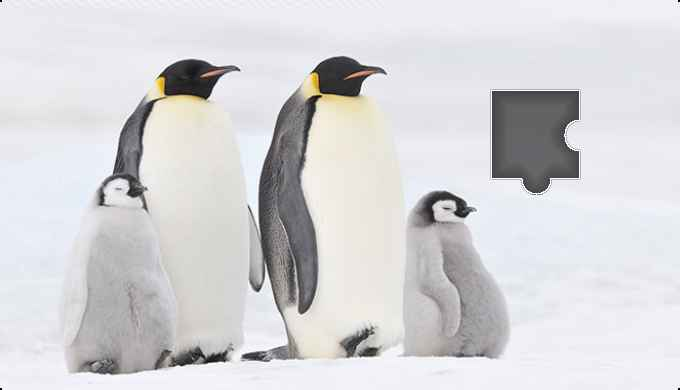gap: (492, 88, 582, 197)
